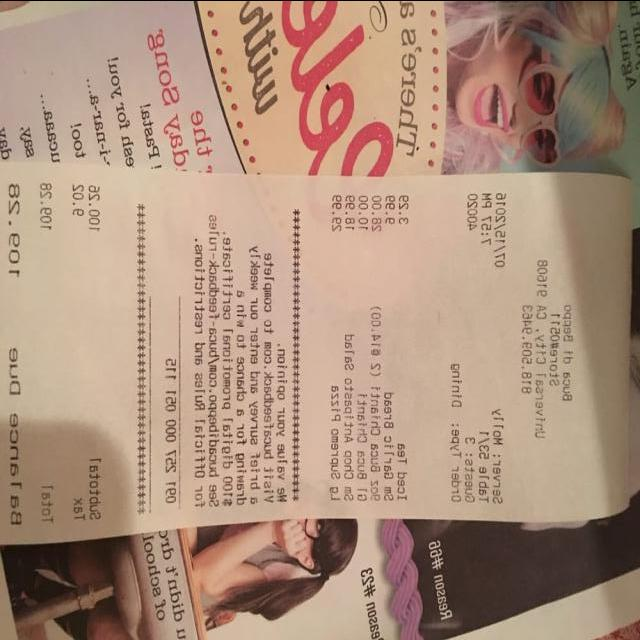kertas: (0, 163, 630, 546)
